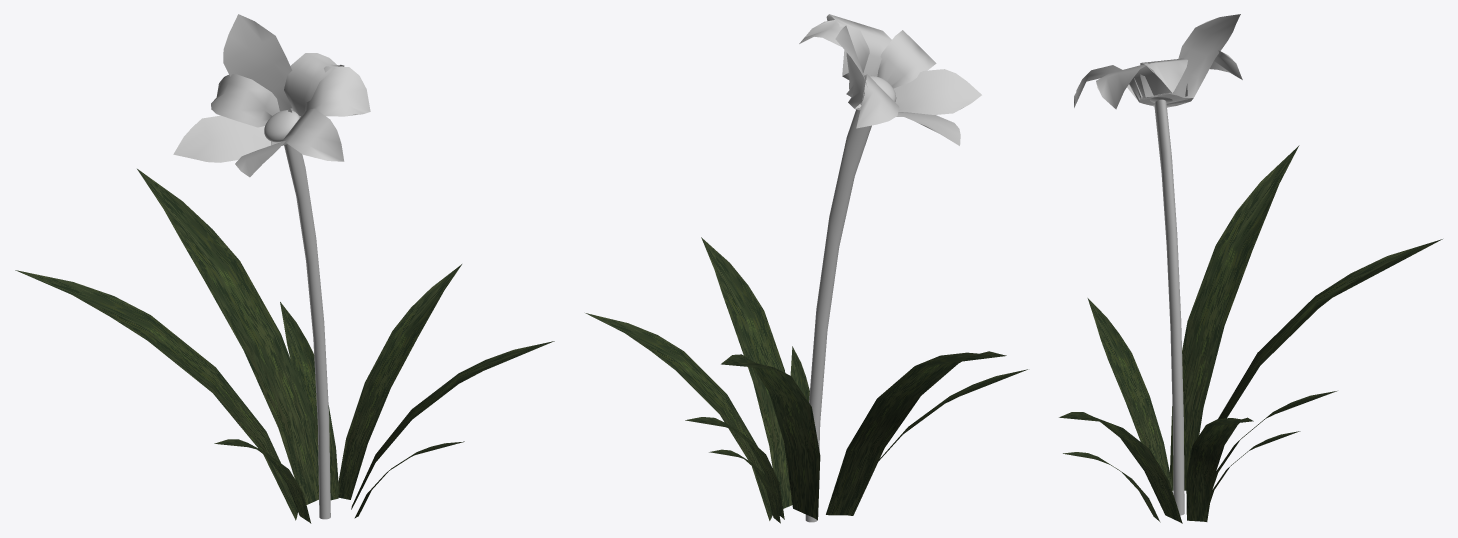
File: Flower 2.fbx
3 views of the same model, side by side, from view 1: azimuth 30°, elevation 25°; view 2: azimuth 150°, elevation 25°; view 3: azimuth 270°, elevation 25° (orthographic). The views are drawn at different scales.
Parts seen in each view (by area): view 1: Plane020, Cylinder001; view 2: Plane020, Cylinder001; view 3: Plane020, Cylinder001.
Part boxes in pixels (x1,y1,x2,y2): Plane020: (15, 169, 554, 523); Cylinder001: (173, 14, 370, 519); Plane020: (585, 237, 1027, 523); Cylinder001: (799, 14, 981, 522); Plane020: (1059, 145, 1442, 523); Cylinder001: (1074, 14, 1242, 515).
Bounding box in the file's own units: 2.85 × 3.16 × 2.33.
